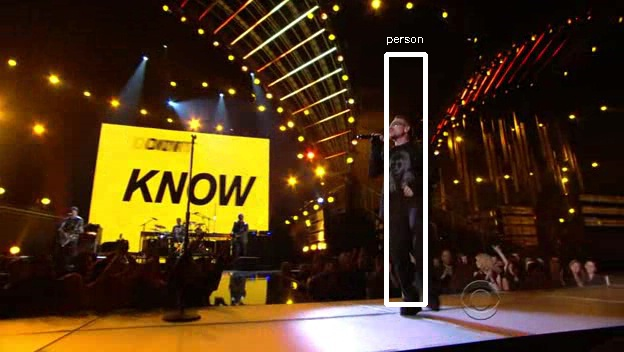person: (367, 116, 433, 225), (364, 116, 430, 225), (370, 116, 436, 225), (367, 113, 433, 222), (367, 119, 433, 228)
target_negative: (332, 116, 571, 266), (213, 35, 505, 84), (478, 149, 504, 233), (183, 333, 482, 339), (129, 285, 163, 317)
